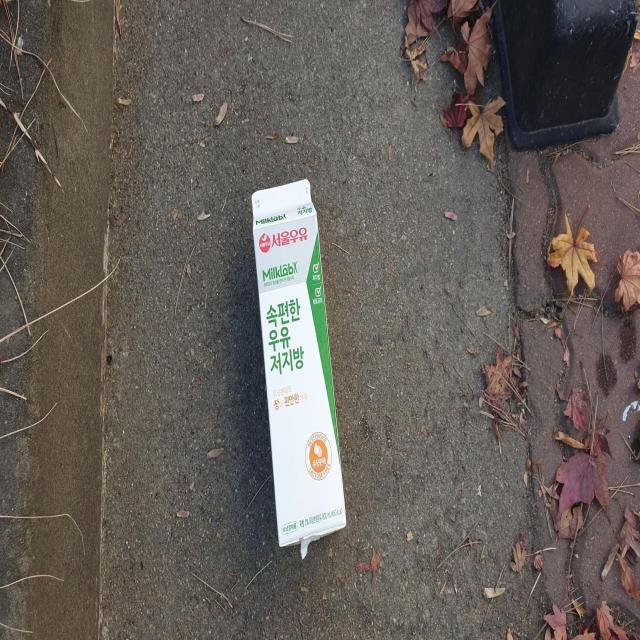paperpack: (251, 178, 347, 558)
